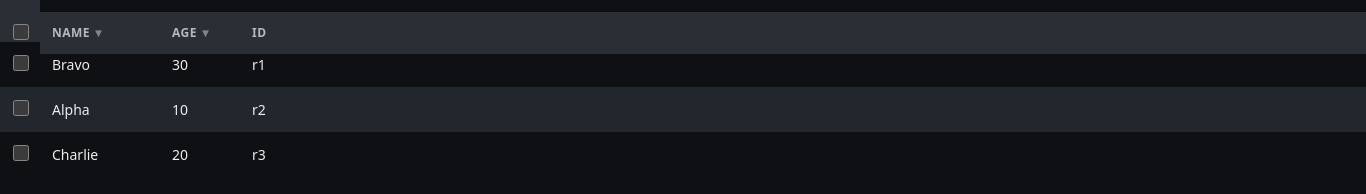
Test: FE-B5b Table › select all: toggle header checkbox → all rows selected
Click the checkbox with test id "t-select-all" at (20, 32), box top-left (12, 24), bottom-right (28, 40)
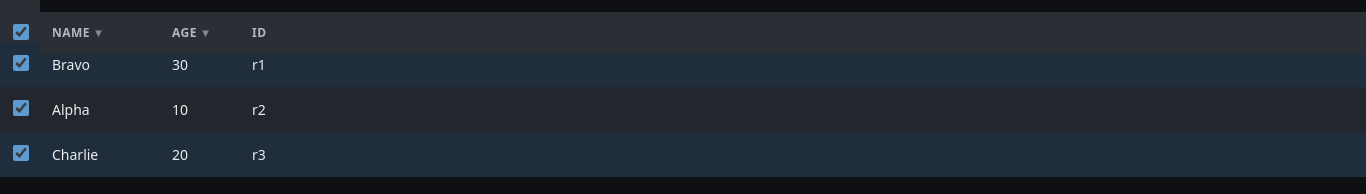
Result: the checkbox with test id "t-select-all" is checked at top-left (12, 24), bottom-right (28, 40)
Result: the checkbox with test id "t-select-r1" is checked at top-left (12, 55), bottom-right (28, 71)
Result: the checkbox with test id "t-select-r2" is checked at top-left (12, 100), bottom-right (28, 116)
